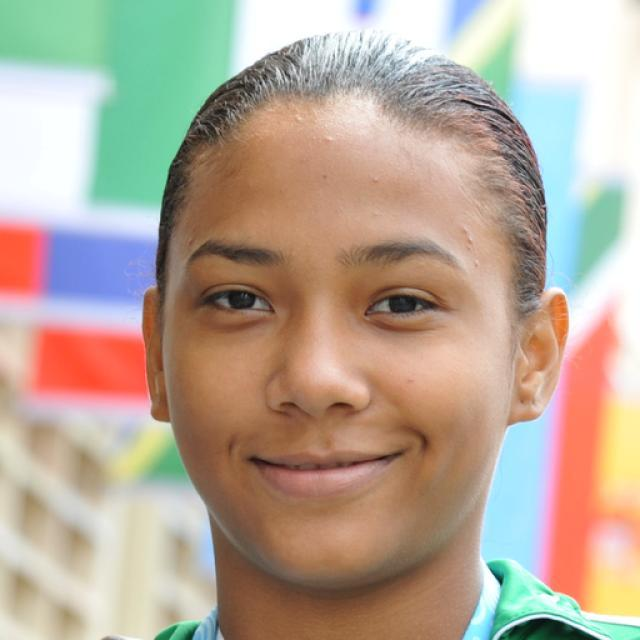content: (158, 105, 512, 588)
